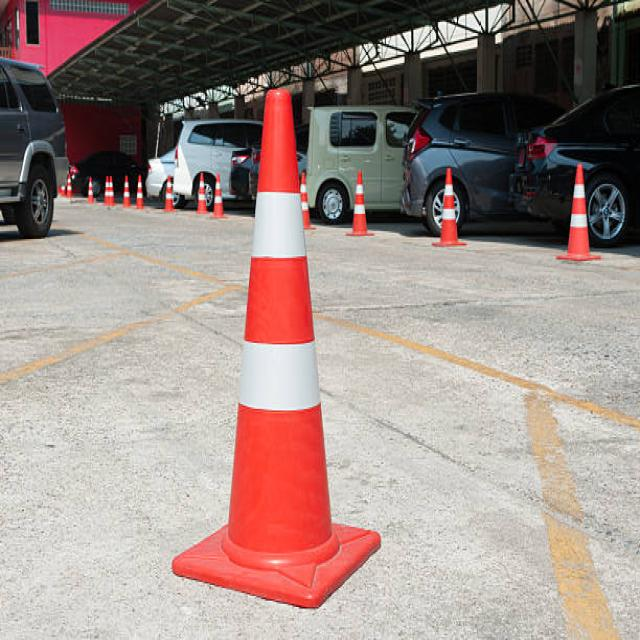Traffic Cone: (165, 49, 412, 624), (556, 154, 606, 276), (425, 155, 478, 257)
